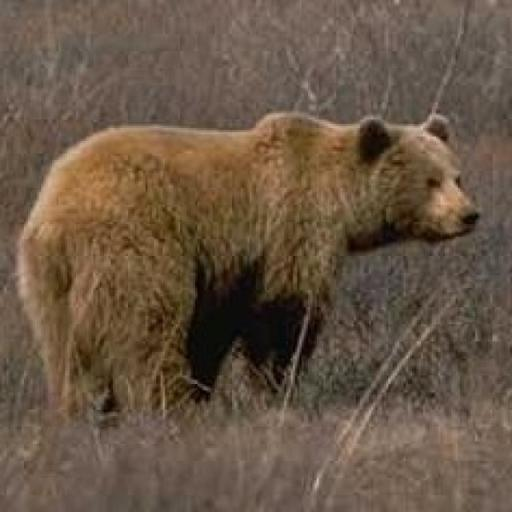Bear: (13, 106, 480, 425)
